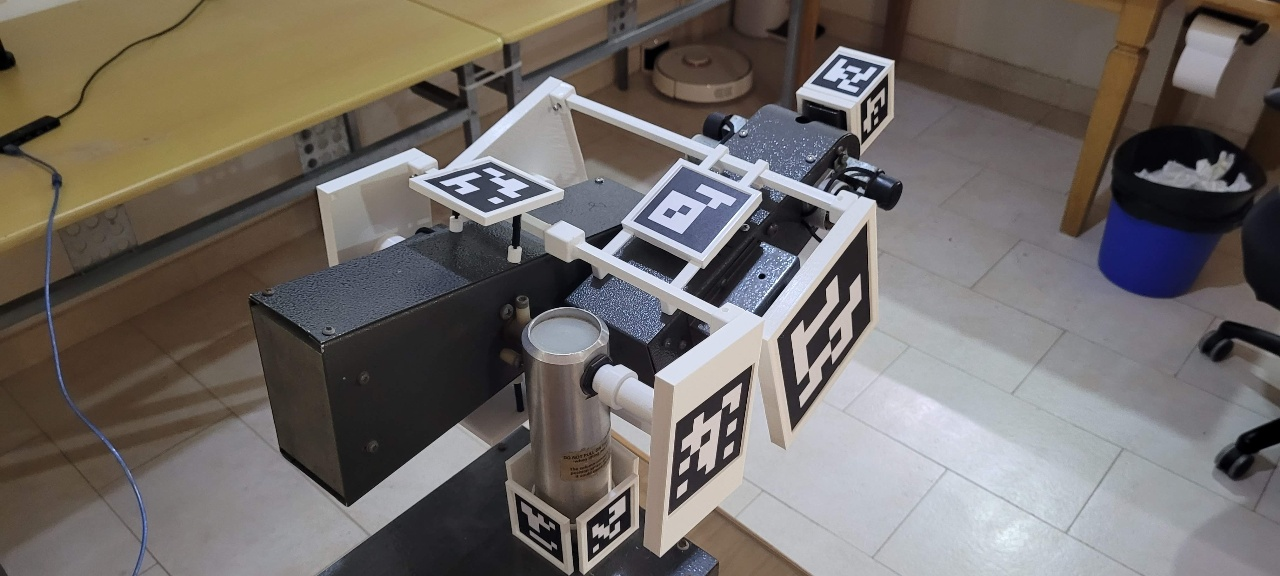Robot: (248, 44, 904, 576)
